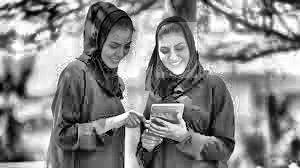happy: (92, 8, 135, 76)
